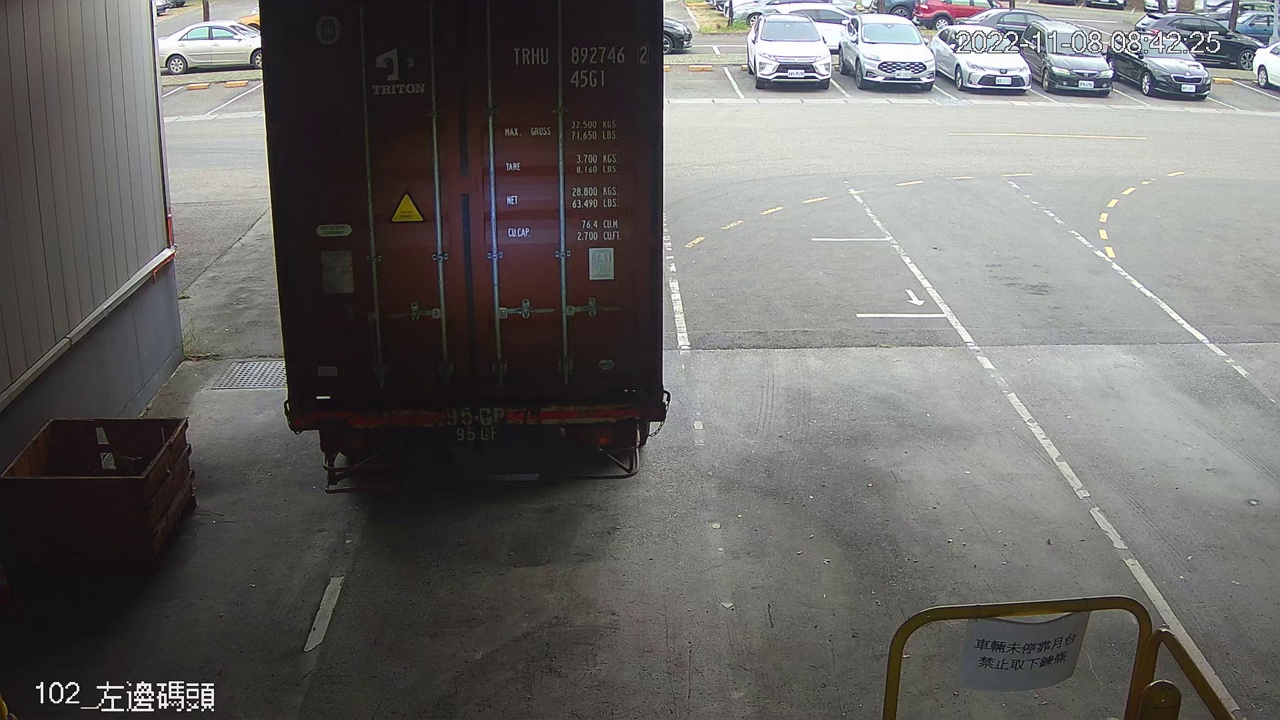container: (503, 37, 656, 93)
